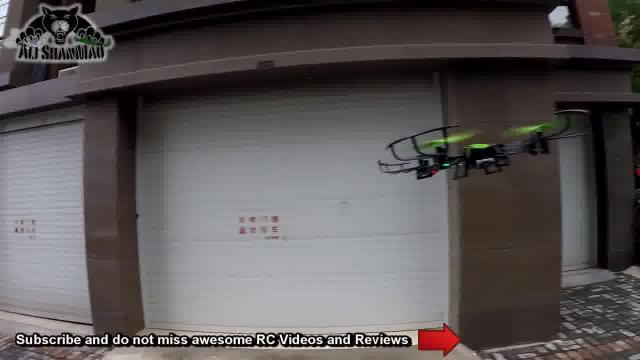drone: (374, 100, 596, 190)
